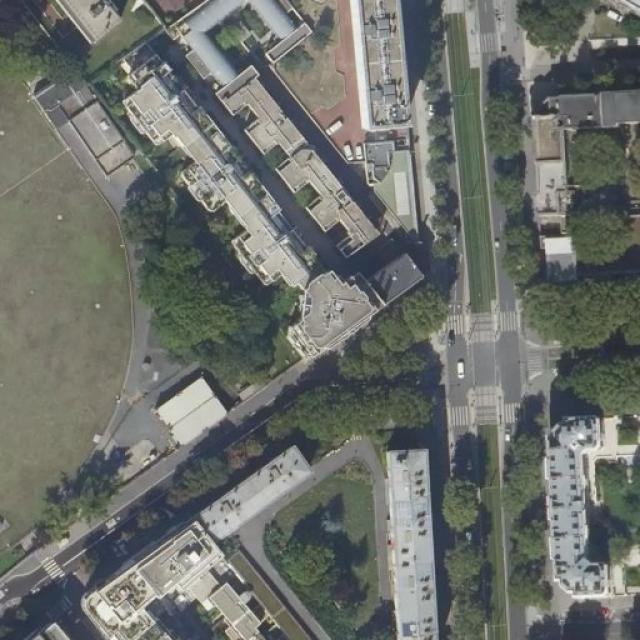immeuble: (121, 22, 383, 326), (212, 46, 380, 240), (190, 426, 308, 522), (29, 51, 131, 157), (558, 400, 618, 580), (320, 0, 409, 109), (364, 122, 420, 228), (153, 358, 226, 428), (355, 220, 423, 285), (0, 0, 118, 24), (182, 12, 228, 58), (281, 296, 324, 340), (264, 3, 311, 43), (123, 77, 161, 121), (178, 150, 214, 191), (98, 454, 128, 480), (237, 362, 264, 383), (250, 0, 292, 11), (224, 8, 238, 26), (0, 1, 1, 2)
